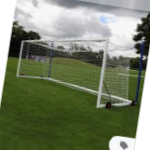goals: (15, 35, 132, 114)
